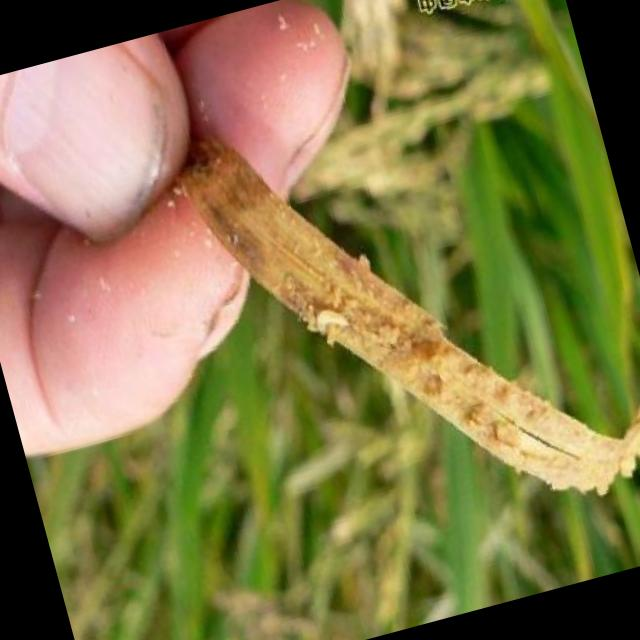whorl-maggot: (306, 298, 360, 350)
